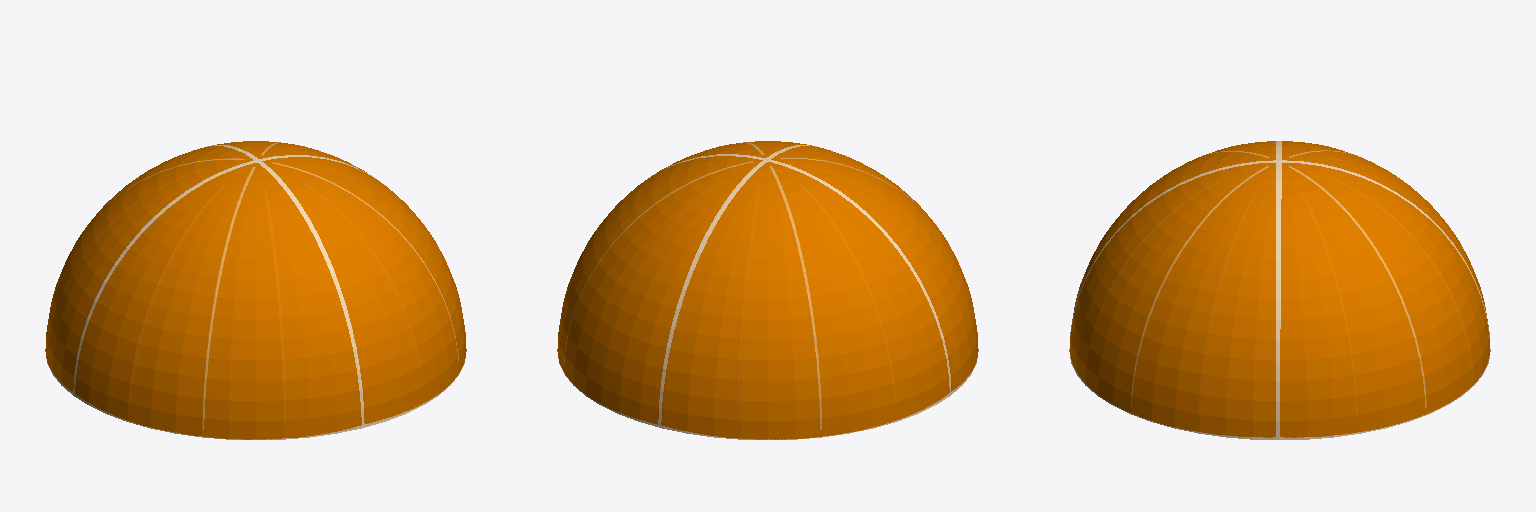
3 views of the same model, side by side, from view 1: azimuth 30°, elevation 25°; view 2: azimuth 150°, elevation 25°; view 3: azimuth 270°, elevation 25° (orthographic).
Visible parts, largest first — view 1: SphereCap_HQ_Sphere.005; view 2: SphereCap_HQ_Sphere.005; view 3: SphereCap_HQ_Sphere.005.
Part boxes in pixels (x1,y1,x2,y2): SphereCap_HQ_Sphere.005: (45, 141, 466, 439); SphereCap_HQ_Sphere.005: (557, 141, 978, 439); SphereCap_HQ_Sphere.005: (1069, 141, 1490, 439).
Bounding box in the file's own units: 1 × 0.5 × 1.
Materials: 1 (1 with a texture image).